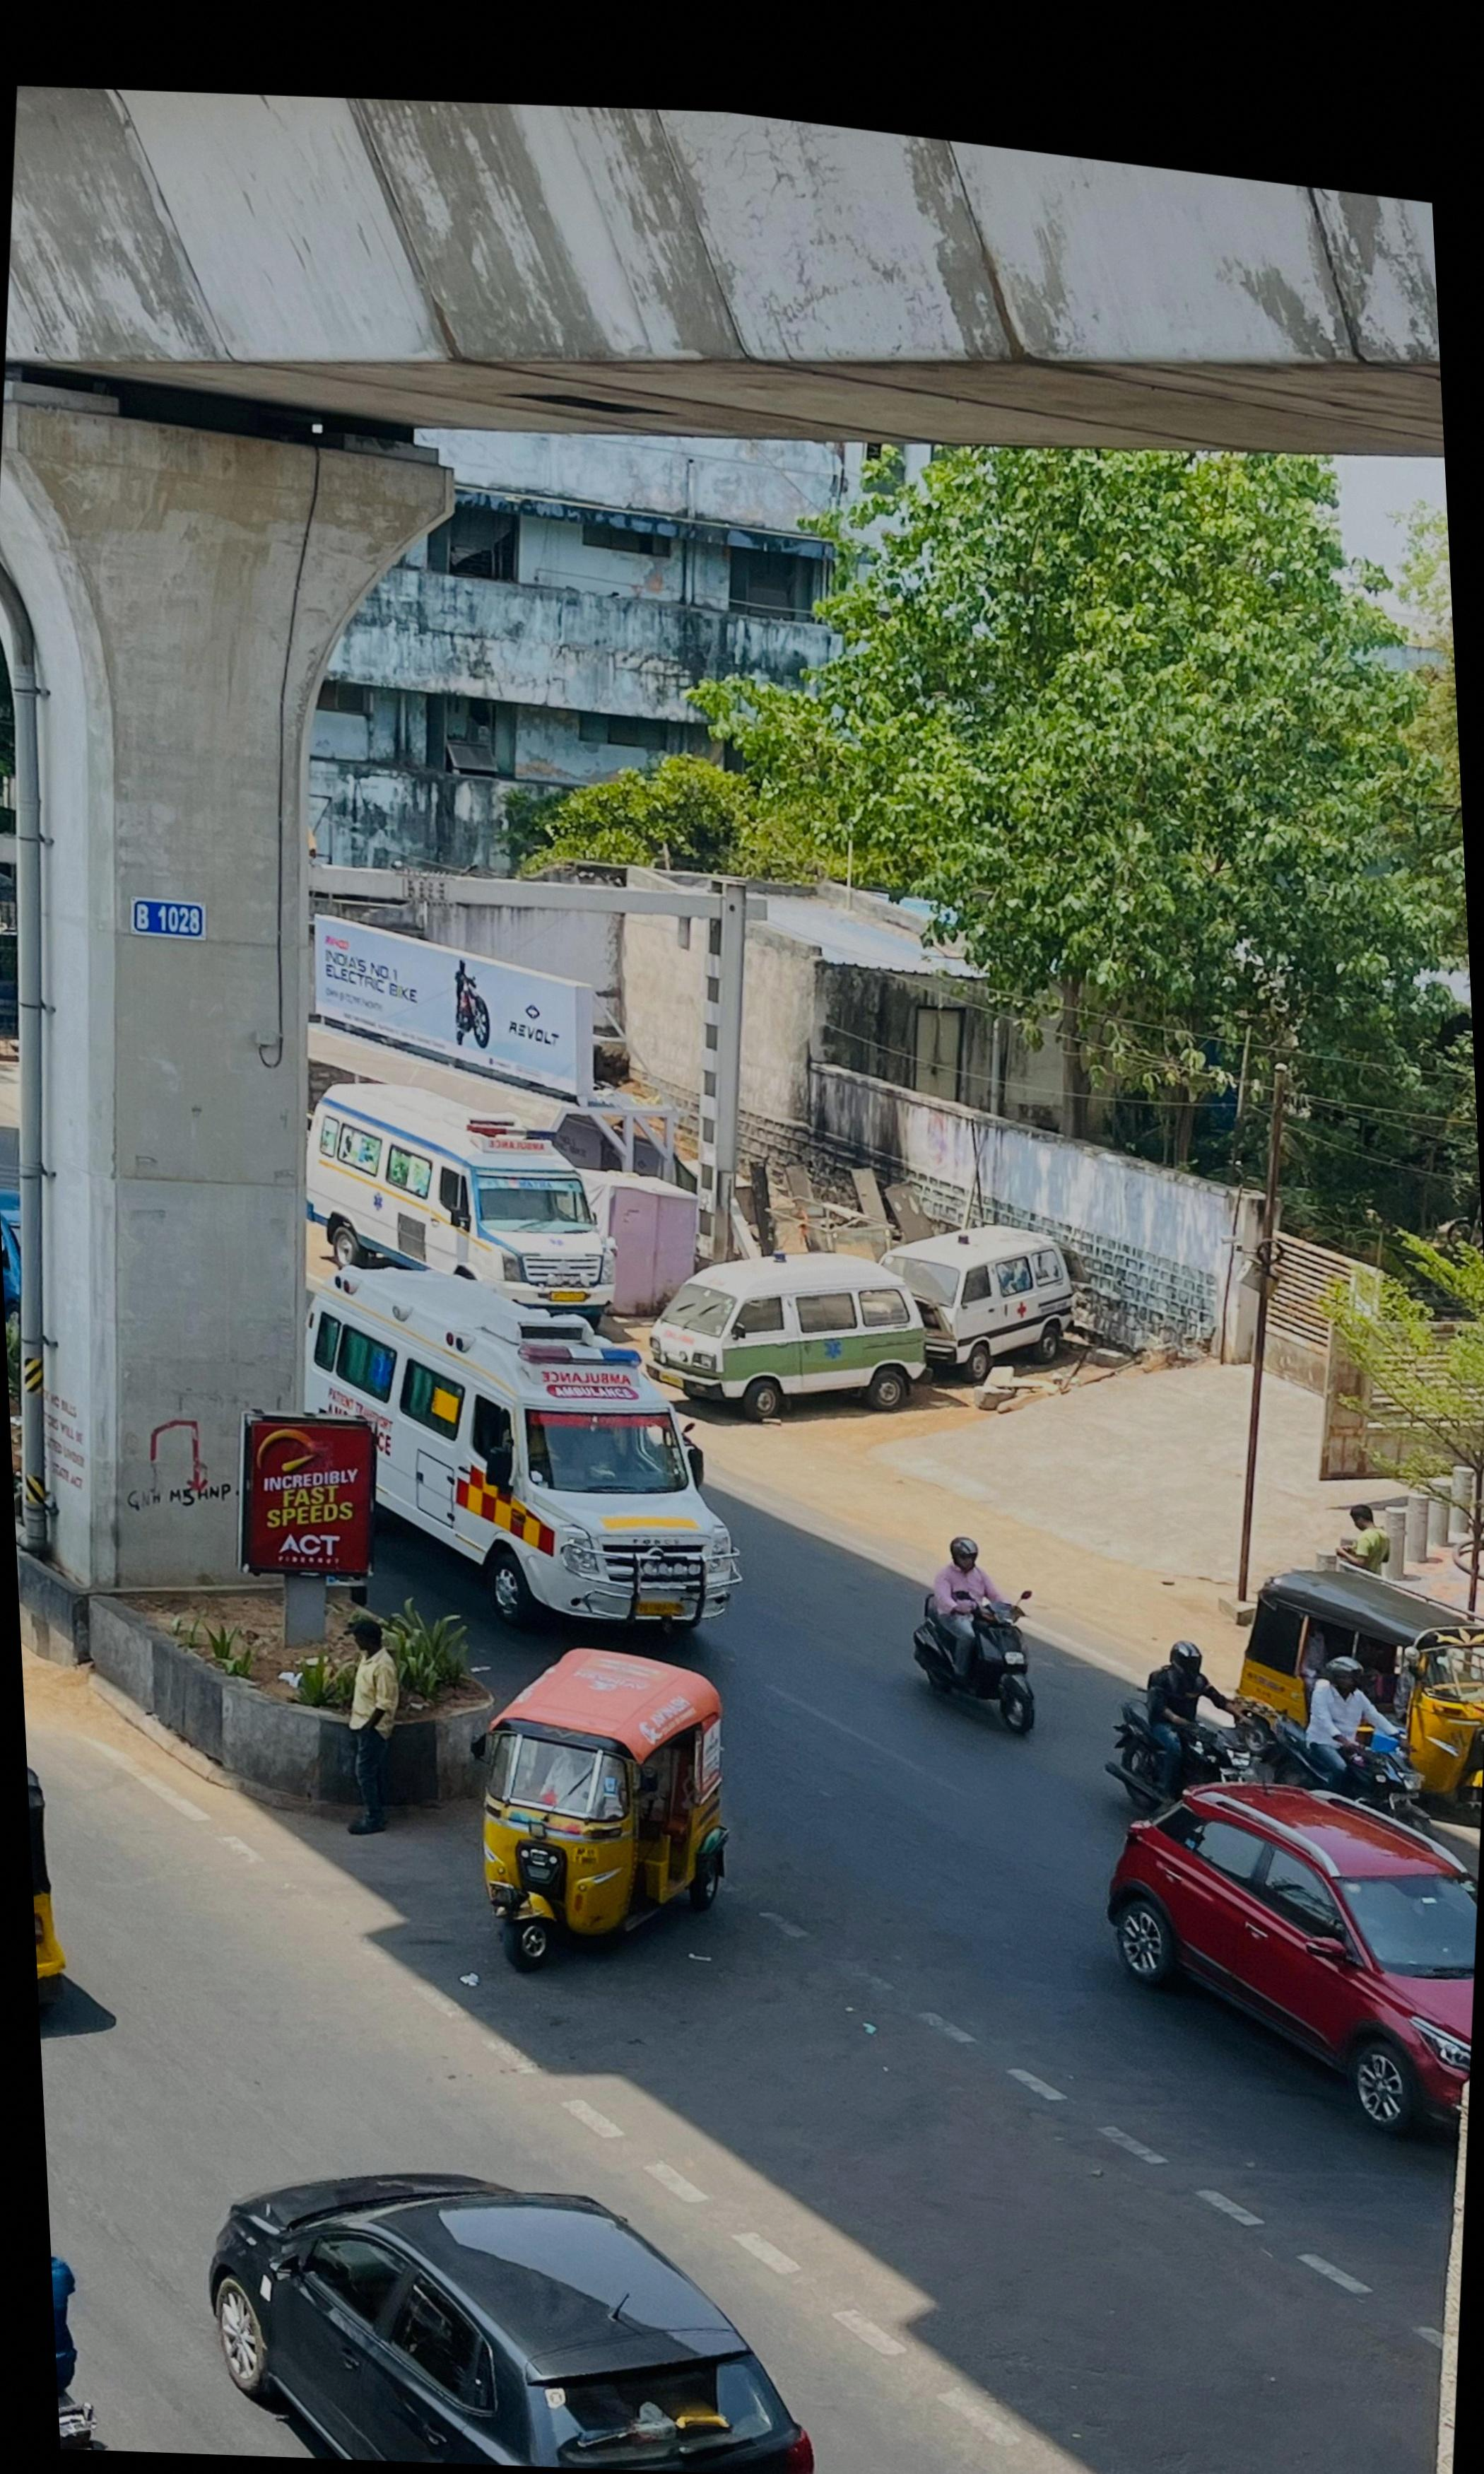ambulance: (304, 1251, 738, 1647)
